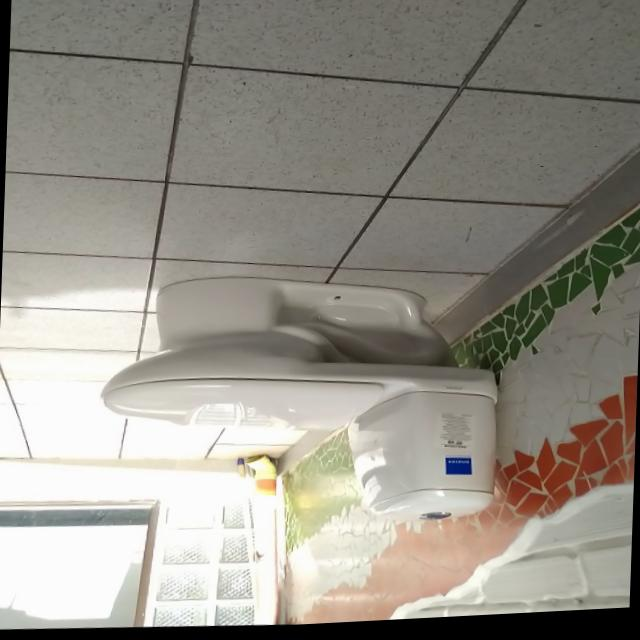toilet: (95, 264, 503, 542)
